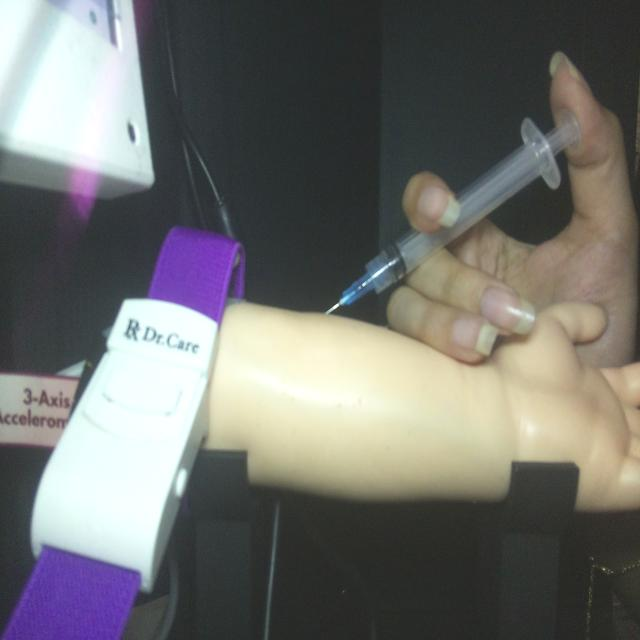27 degrees: (323, 104, 582, 318)
